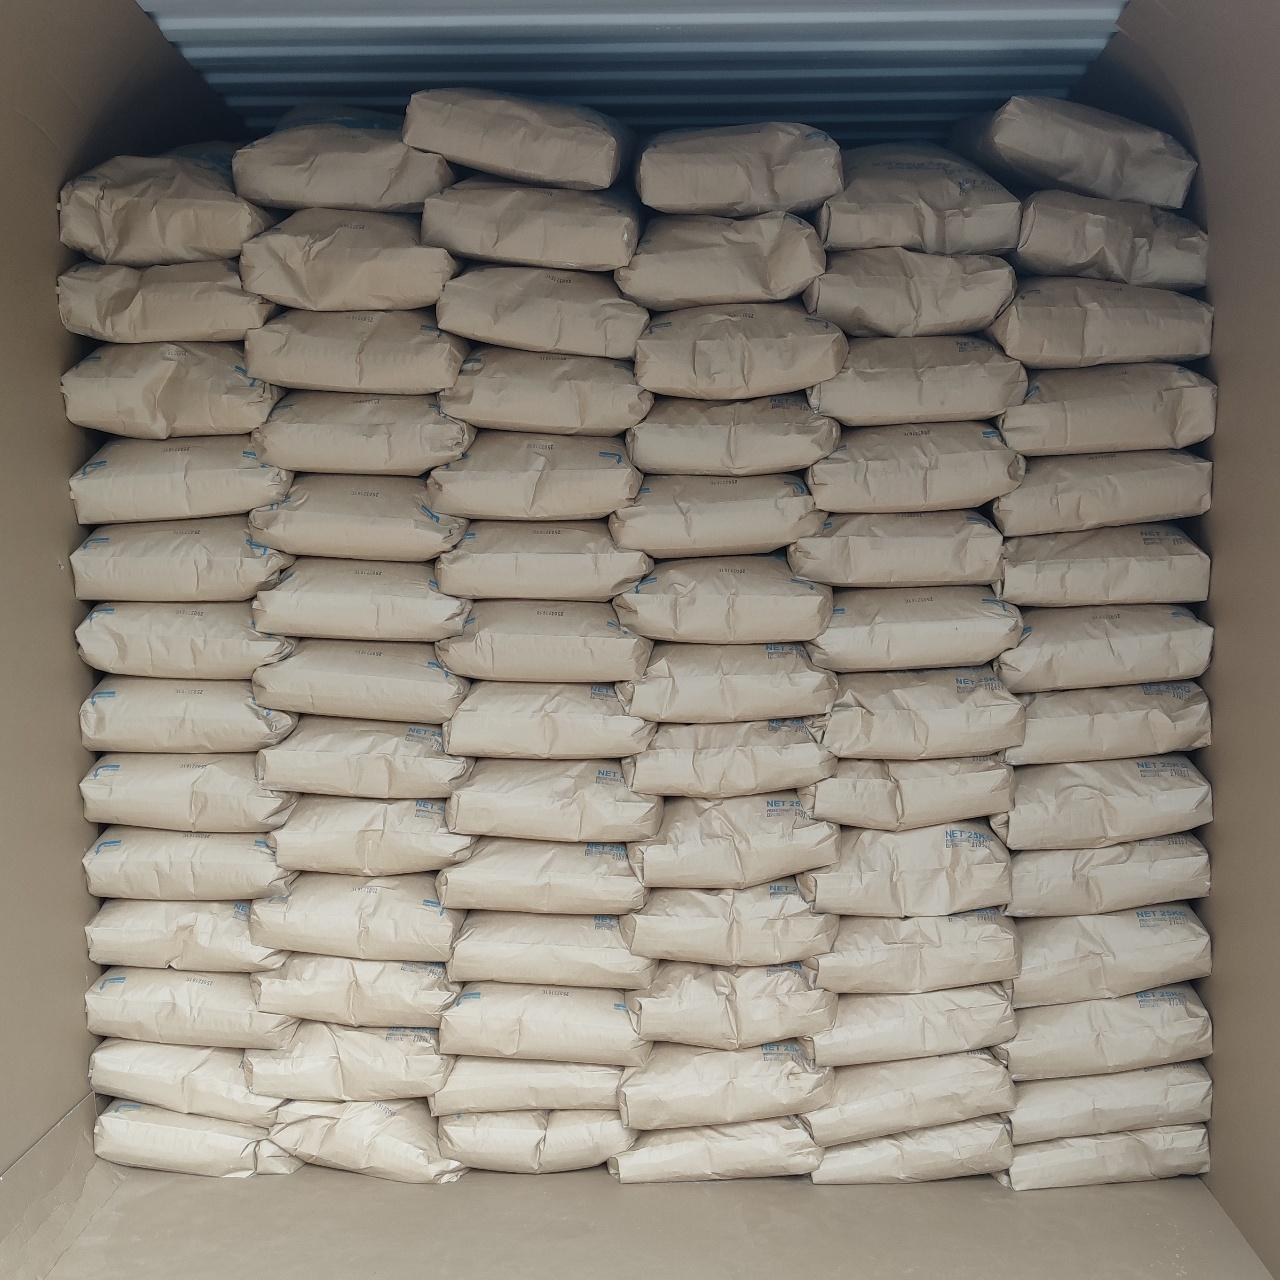sack: (950, 96, 1194, 206), (60, 154, 274, 262), (818, 144, 1018, 254), (404, 90, 624, 188), (242, 210, 456, 308), (1006, 904, 1210, 1006), (992, 984, 1212, 1078), (636, 302, 846, 398), (424, 176, 638, 270), (992, 756, 1212, 846), (616, 214, 822, 310), (64, 344, 278, 436), (998, 364, 1214, 454), (812, 666, 1022, 758), (986, 280, 1210, 366), (630, 794, 838, 886), (438, 264, 646, 356), (802, 1052, 1014, 1142), (72, 436, 292, 522), (1014, 190, 1206, 288), (808, 336, 1026, 422), (620, 878, 838, 964), (440, 346, 652, 434), (810, 422, 1022, 510), (236, 124, 452, 210), (800, 822, 1006, 912), (990, 450, 1210, 534), (996, 606, 1210, 692), (428, 432, 642, 518), (638, 122, 838, 214), (614, 554, 830, 638), (72, 516, 292, 598), (254, 392, 472, 474), (810, 586, 1022, 670), (246, 310, 468, 390), (60, 260, 276, 342), (804, 250, 1014, 334), (252, 874, 462, 958), (620, 1042, 830, 1126), (250, 476, 464, 558), (254, 640, 468, 722), (610, 474, 824, 556), (258, 716, 470, 798), (256, 558, 470, 638), (1002, 682, 1210, 764), (626, 964, 834, 1046), (804, 910, 1016, 990), (996, 524, 1206, 604), (628, 394, 838, 474), (448, 760, 660, 838), (802, 984, 1014, 1062), (92, 1038, 284, 1124), (78, 602, 294, 678), (1008, 834, 1208, 916), (1006, 1062, 1210, 1142), (438, 522, 652, 598), (436, 602, 650, 678), (86, 968, 294, 1046), (616, 644, 834, 718), (82, 754, 294, 830), (442, 984, 648, 1062), (624, 720, 834, 796), (444, 682, 654, 758), (82, 676, 296, 750), (246, 1022, 454, 1098), (270, 796, 470, 874), (272, 1100, 462, 1182), (450, 912, 654, 988), (788, 512, 1000, 584), (96, 1100, 300, 1174), (438, 838, 646, 910), (800, 758, 1012, 828), (252, 954, 456, 1026), (86, 828, 294, 898), (88, 900, 286, 970), (994, 1126, 1206, 1190), (608, 1118, 822, 1180), (810, 1116, 1010, 1182), (438, 1112, 636, 1172), (430, 1058, 624, 1114)
